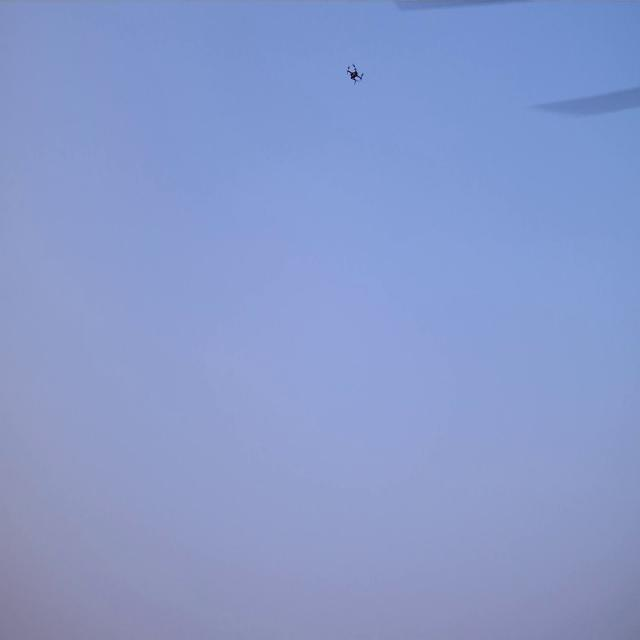UAV: (348, 65, 362, 82)
